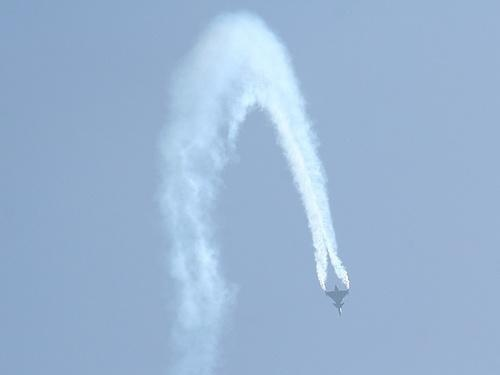aeroplane: (320, 284, 351, 317)
